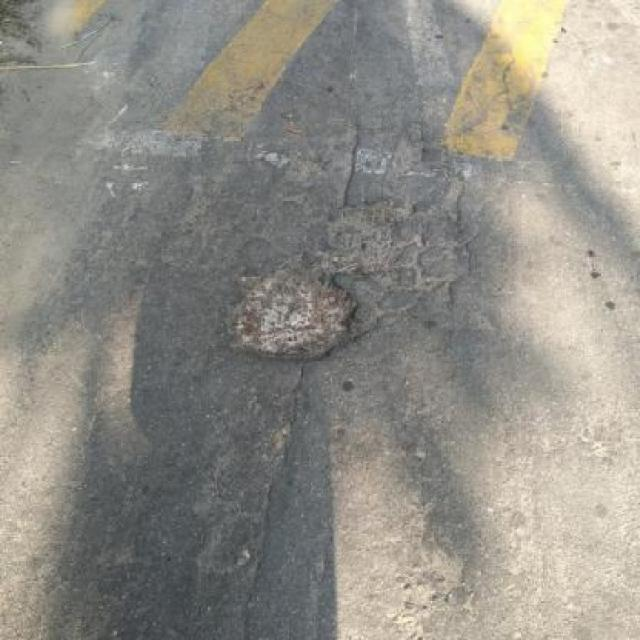Pothole: (219, 262, 363, 364), (318, 197, 410, 276)
